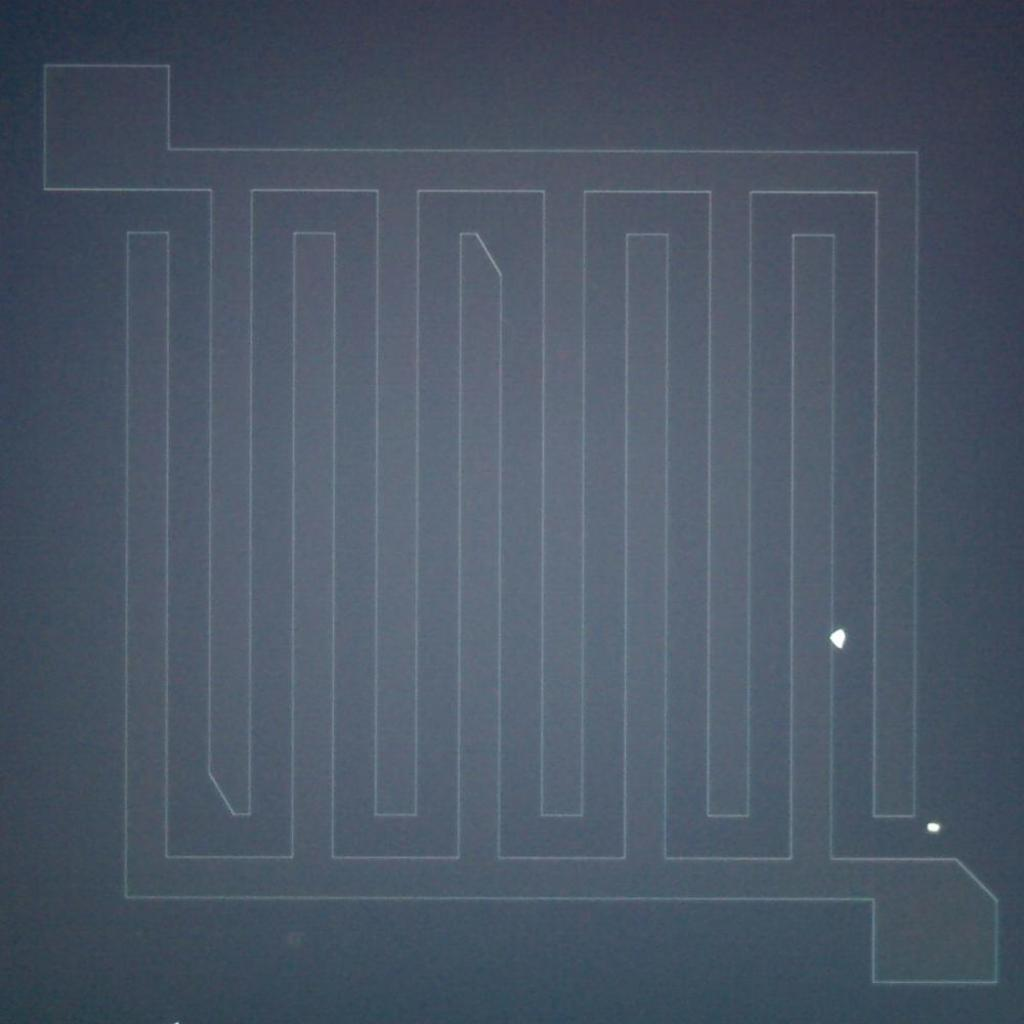dot: (828, 629, 849, 649), (927, 821, 940, 834)
